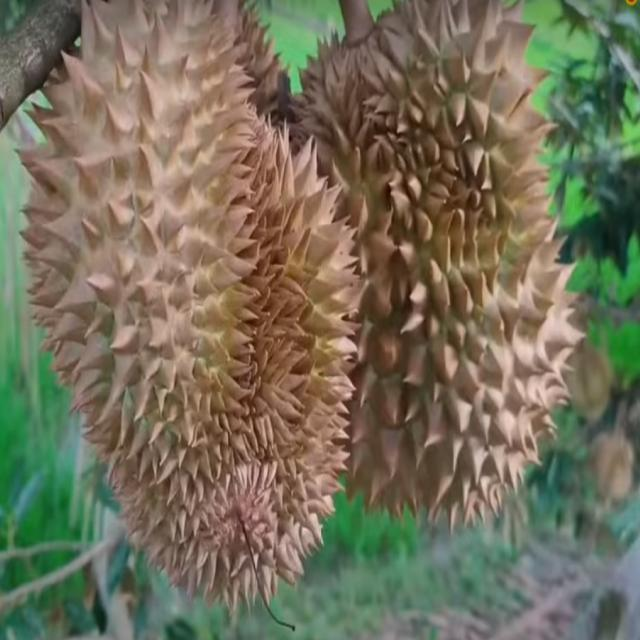mature: (13, 0, 361, 608), (285, 0, 588, 538)
